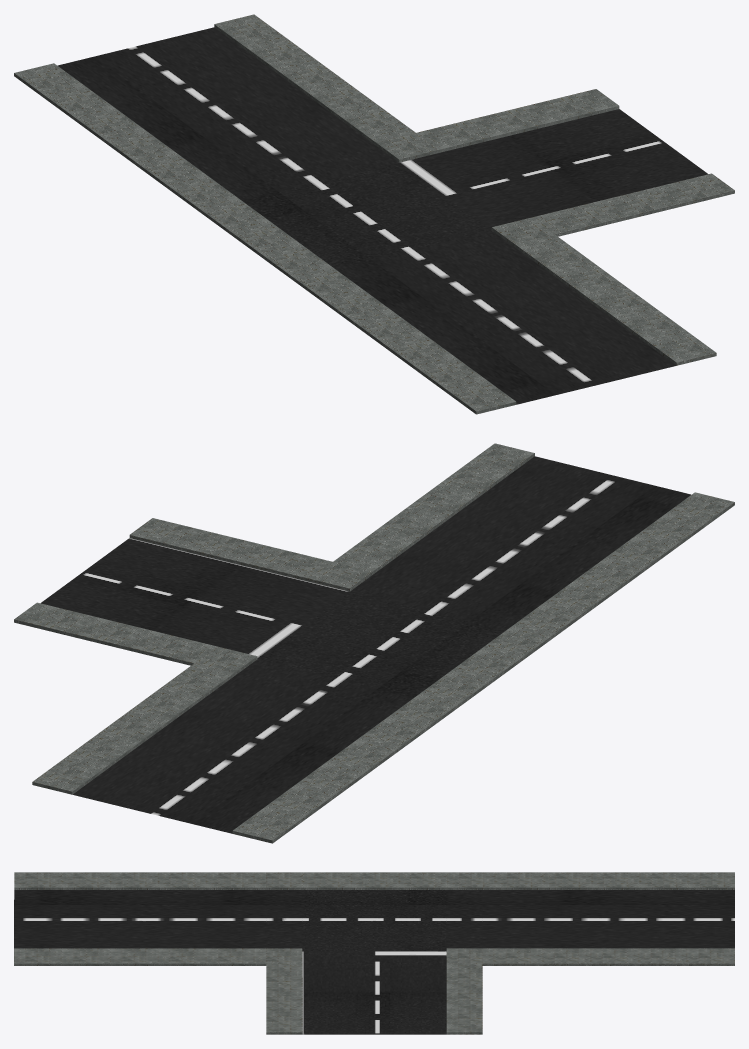
3 renders of one model, top to bottom at view 1: azimuth 30°, elevation 25°; view 2: azimuth 150°, elevation 25°; view 3: azimuth 270°, elevation 25°, orthographic. The views are drawn at different scales.
Visible parts, largest first — view 1: troad_dashed; view 2: troad_dashed; view 3: troad_dashed.
Boxes of the visible parts, x1,y1,x2,y2 form: troad_dashed: [14, 14, 734, 414]; troad_dashed: [14, 443, 734, 843]; troad_dashed: [14, 872, 734, 1034].
Size of the model in its own units: 2100 by 15 by 4001.
Materials: 1 (1 with a texture image).
